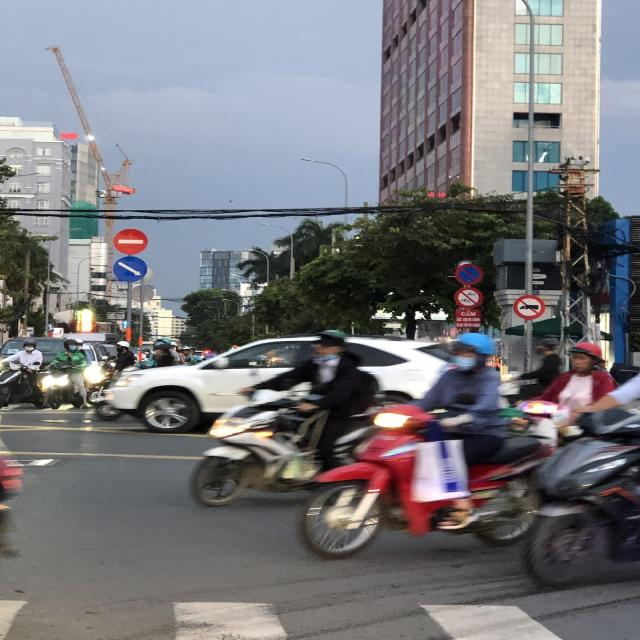Bien bao cam di nguoc chieu: (110, 225, 150, 255)
Bien bao cam do xe: (452, 262, 485, 286)
Bien bao cam xe so-mi ro-mooc: (510, 293, 548, 322)
Bien bao huong phai di vong chuong ngai vat: (111, 255, 150, 284)
